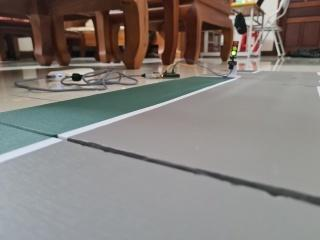green: (229, 36, 241, 62)
